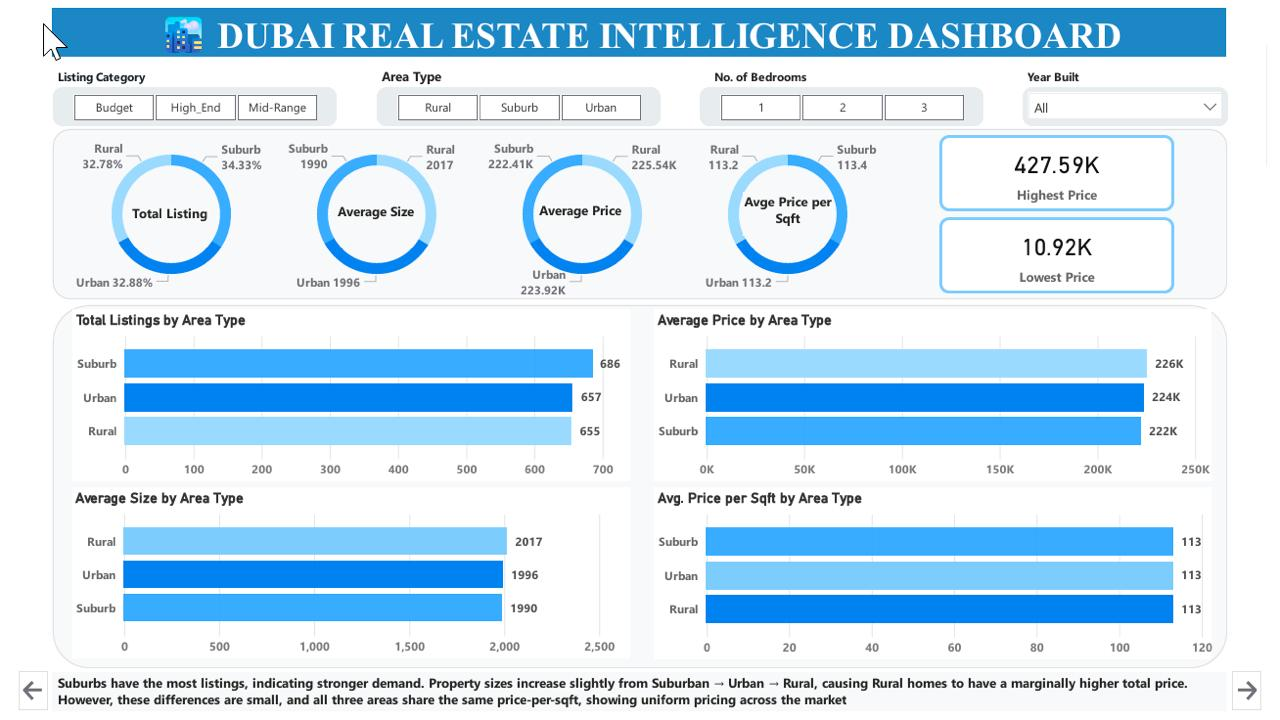

This screenshot's page, from the dashboard's own definition file:
{"tool":"powerbi","page":{"name":"Area Type Analysis","canvas":[1280,720],"ordinal":1},"visuals":[{"type":"textbox","title":"🏙️ DUBAI REAL ESTATE INTELLIGENCE DASHBOARD","box":[39,0,1200,50],"z":0},{"type":"slicer","fields":{"Values":["housing_price_dataset.Listing Category"]},"box":[39,80,290,40],"z":1000},{"type":"slicer","fields":{"Values":["housing_price_dataset.Area Type"]},"box":[370,80,290,40],"z":2000},{"type":"slicer","fields":{"Values":["housing_price_dataset.No. of Bathrooms"]},"box":[700,80,290,40],"z":3000},{"type":"slicer","fields":{"Values":["housing_price_dataset.Year Built"]},"box":[1030,80,210,40],"z":4000},{"type":"textbox","box":[39,60,130,20],"z":5000},{"type":"textbox","box":[370,60,130,20],"z":6000},{"type":"textbox","box":[710,60,140,20],"z":7000},{"type":"textbox","box":[1030,60,130,20],"z":8000},{"type":"shape","box":[39,123,1200,174],"z":9000},{"type":"donutChart","fields":{"Category":["housing_price_dataset.Area Type"],"Y":["Measure.Avg. Price per Sqft"]},"box":[690,100,200,220],"z":10000},{"type":"donutChart","fields":{"Category":["housing_price_dataset.Area Type"],"Y":["Measure.Average Price"]},"box":[480,100,200,220],"z":11000},{"type":"donutChart","fields":{"Y":["Measure.Average Size"],"Category":["housing_price_dataset.Area Type"]},"box":[270,100,200,220],"z":12000},{"type":"donutChart","fields":{"Y":["Measure.Total Listings"],"Category":["housing_price_dataset.Area Type"]},"box":[60,100,200,220],"z":13000},{"type":"card","fields":{"Values":["Measure.Highest Price"]},"box":[945,129,240,78],"z":14000},{"type":"card","fields":{"Values":["Measure.Lowest Price"]},"box":[945,213,240,78],"z":15000},{"type":"shape","box":[39,303,1200,371],"z":16000},{"type":"clusteredBarChart","fields":{"Y":["Measure.Total Listings"],"Category":["housing_price_dataset.Area Type"]},"box":[60,308,570,176],"z":17000},{"type":"clusteredBarChart","fields":{"Y":["Measure.Average Size"],"Category":["housing_price_dataset.Area Type"]},"box":[60,490,570,175],"z":18000},{"type":"clusteredBarChart","fields":{"Y":["Measure.Average Price"],"Category":["housing_price_dataset.Area Type"]},"box":[654.3,308,570,175.7],"z":19000},{"type":"clusteredBarChart","fields":{"Category":["housing_price_dataset.Area Type"],"Y":["Measure.Avg. Price per Sqft"]},"box":[654.3,490,570,175.7],"z":20000},{"type":"textbox","box":[39,679,1200,40],"z":21000},{"type":"textbox","box":[120,200,88,20],"z":22000},{"type":"textbox","box":[330,198,85,30],"z":23000},{"type":"textbox","box":[536,197.3,90,30],"z":24000},{"type":"textbox","box":[745,188,90,45],"z":25000},{"type":"actionButton","box":[1244,677,30,40],"z":26000},{"type":"actionButton","box":[4,677,30,40],"z":27000}]}

Visuals, with their boxes on the page's 1280x720 design canvas (x1, y1, x2, y2). These are canvas units, not pixel positions in the 1280x720 screenshot, which may show the page scaled, cropped or inside an application window:
"🏙️ DUBAI REAL ESTATE INTELLIGENCE DASHBOARD" textbox: l=39, t=0, r=1239, b=50
slicer - housing_price_dataset.Listing Category: l=39, t=80, r=329, b=120
slicer - housing_price_dataset.Area Type: l=370, t=80, r=660, b=120
slicer - housing_price_dataset.No. of Bathrooms: l=700, t=80, r=990, b=120
slicer - housing_price_dataset.Year Built: l=1030, t=80, r=1240, b=120
textbox: l=39, t=60, r=169, b=80
textbox: l=370, t=60, r=500, b=80
textbox: l=710, t=60, r=850, b=80
textbox: l=1030, t=60, r=1160, b=80
shape: l=39, t=123, r=1239, b=297
donutChart - housing_price_dataset.Area Type x Measure.Avg. Price per Sqft: l=690, t=100, r=890, b=320
donutChart - housing_price_dataset.Area Type x Measure.Average Price: l=480, t=100, r=680, b=320
donutChart - Measure.Average Size x housing_price_dataset.Area Type: l=270, t=100, r=470, b=320
donutChart - Measure.Total Listings x housing_price_dataset.Area Type: l=60, t=100, r=260, b=320
card - Measure.Highest Price: l=945, t=129, r=1185, b=207
card - Measure.Lowest Price: l=945, t=213, r=1185, b=291
shape: l=39, t=303, r=1239, b=674
clusteredBarChart - Measure.Total Listings x housing_price_dataset.Area Type: l=60, t=308, r=630, b=484
clusteredBarChart - Measure.Average Size x housing_price_dataset.Area Type: l=60, t=490, r=630, b=665
clusteredBarChart - Measure.Average Price x housing_price_dataset.Area Type: l=654, t=308, r=1224, b=484
clusteredBarChart - housing_price_dataset.Area Type x Measure.Avg. Price per Sqft: l=654, t=490, r=1224, b=666
textbox: l=39, t=679, r=1239, b=719
textbox: l=120, t=200, r=208, b=220
textbox: l=330, t=198, r=415, b=228
textbox: l=536, t=197, r=626, b=227
textbox: l=745, t=188, r=835, b=233
actionButton: l=1244, t=677, r=1274, b=717
actionButton: l=4, t=677, r=34, b=717
